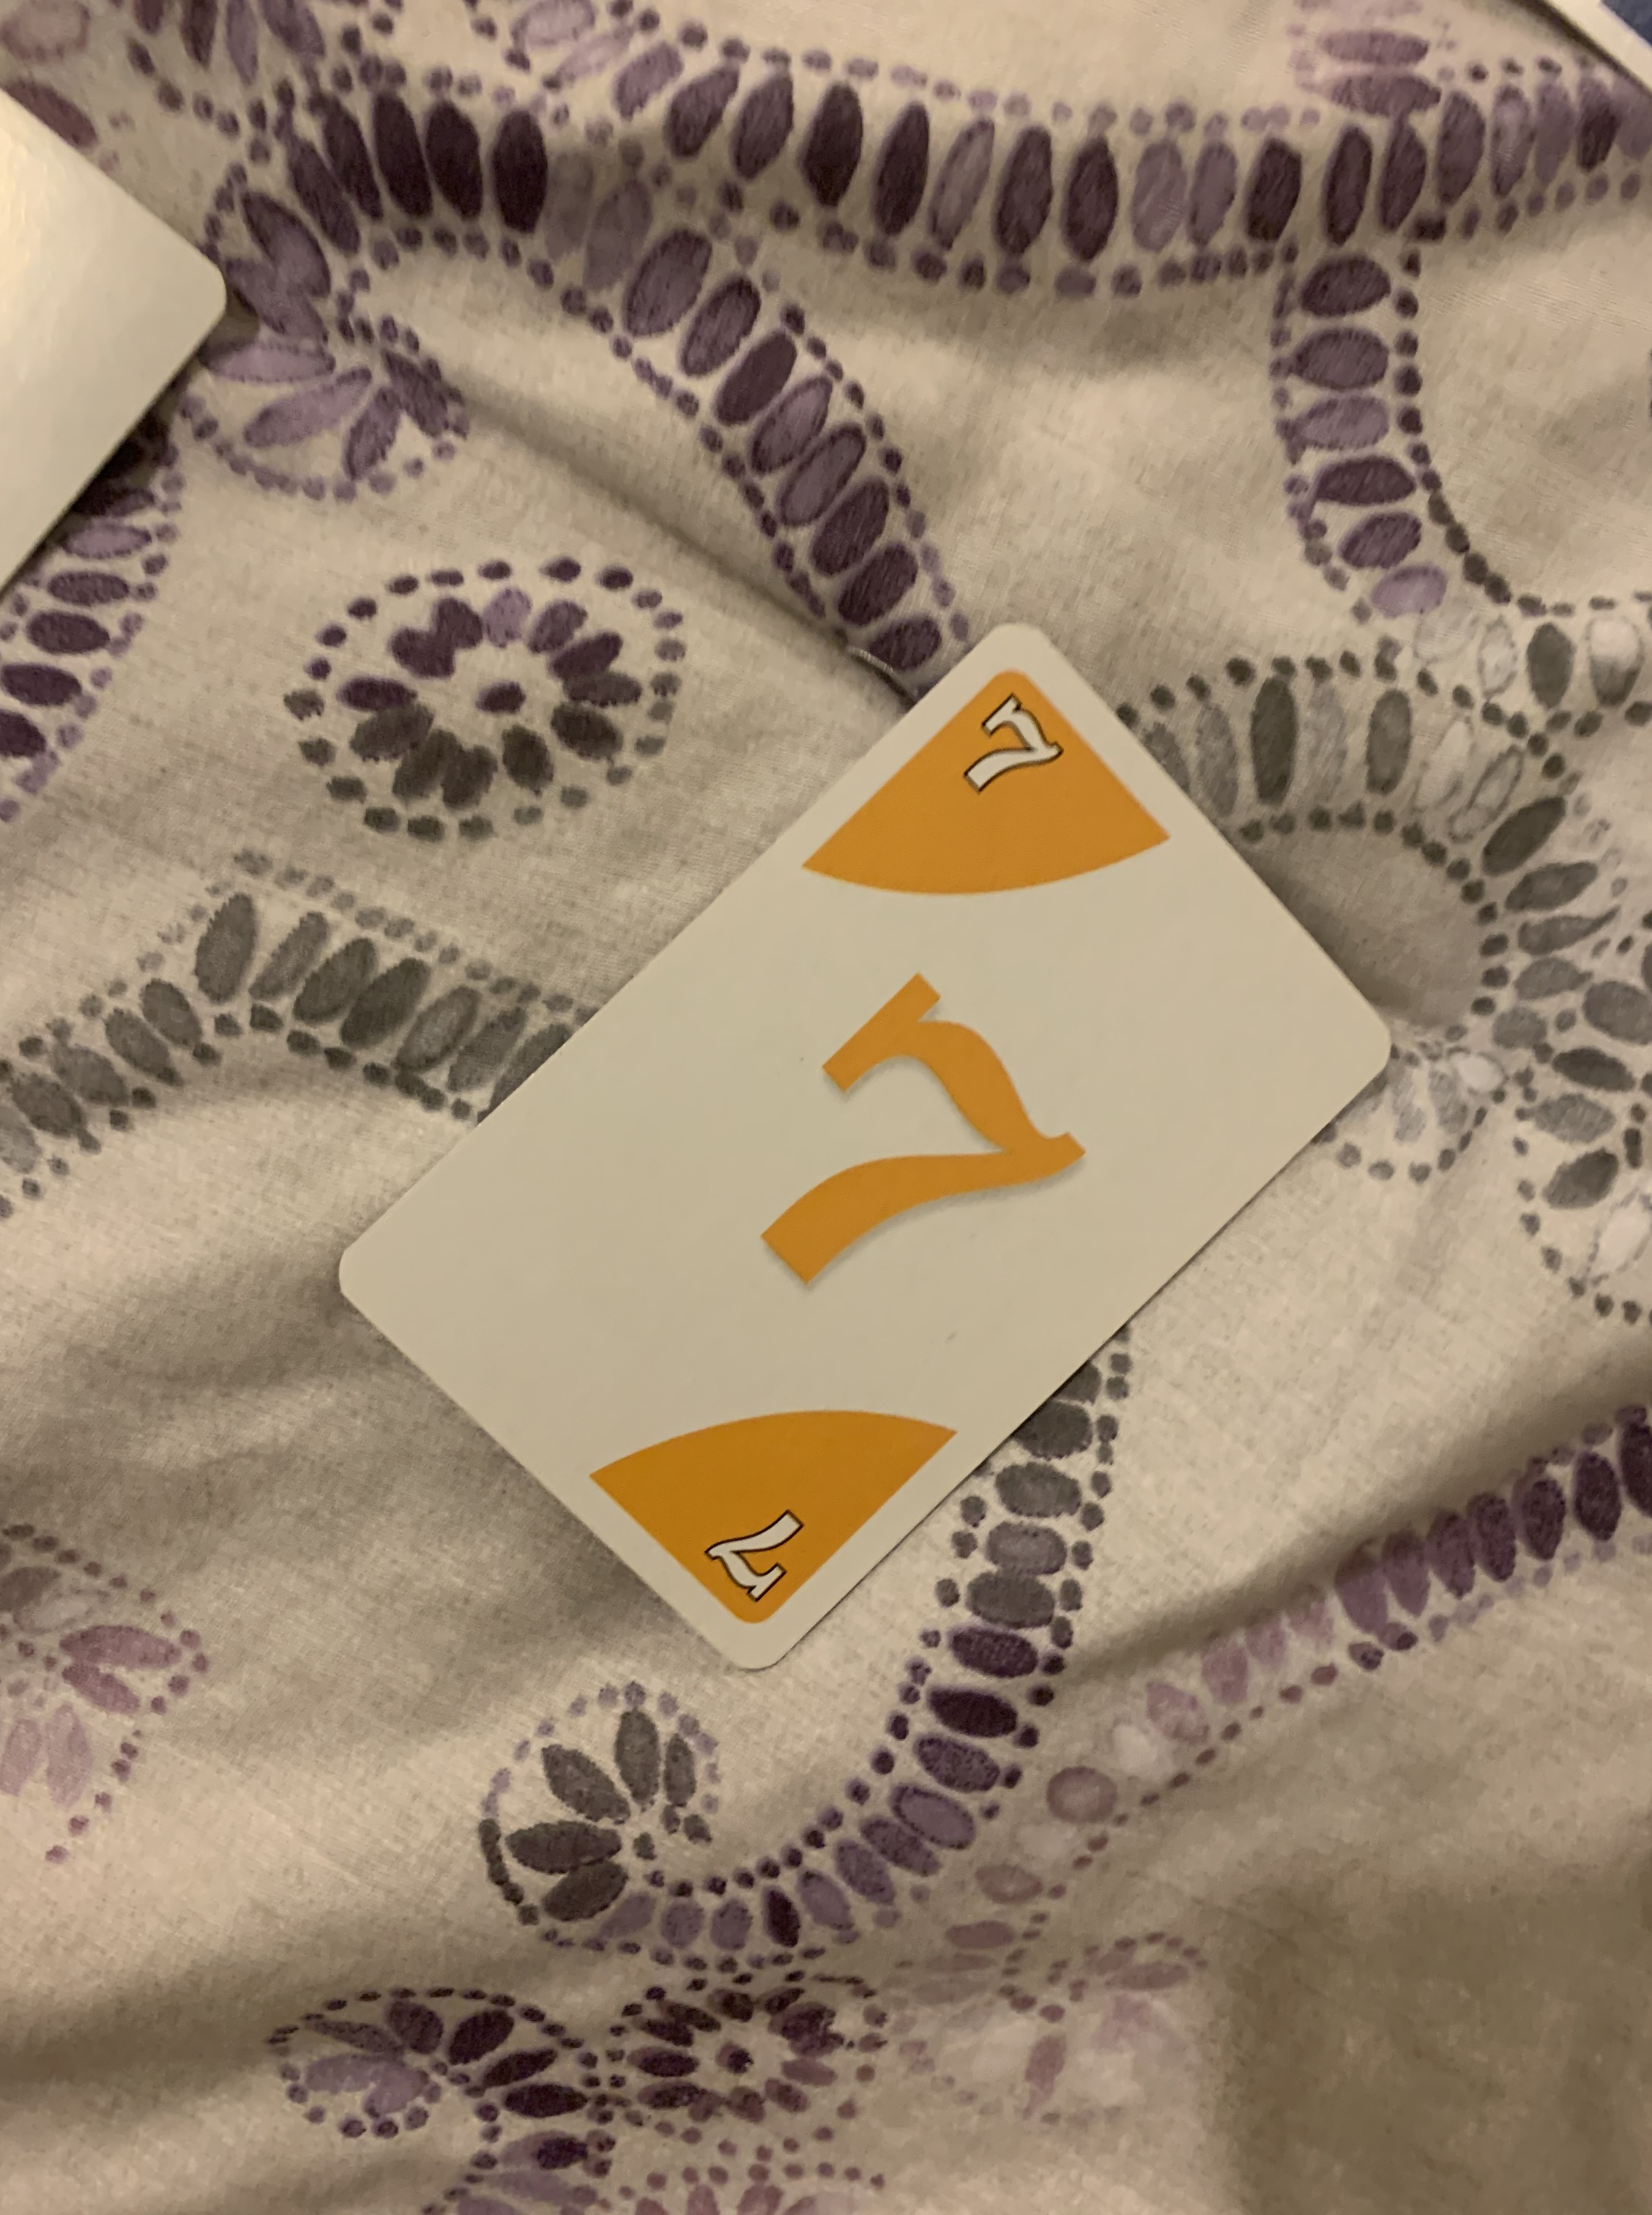seven: (331, 621, 1392, 1673)
